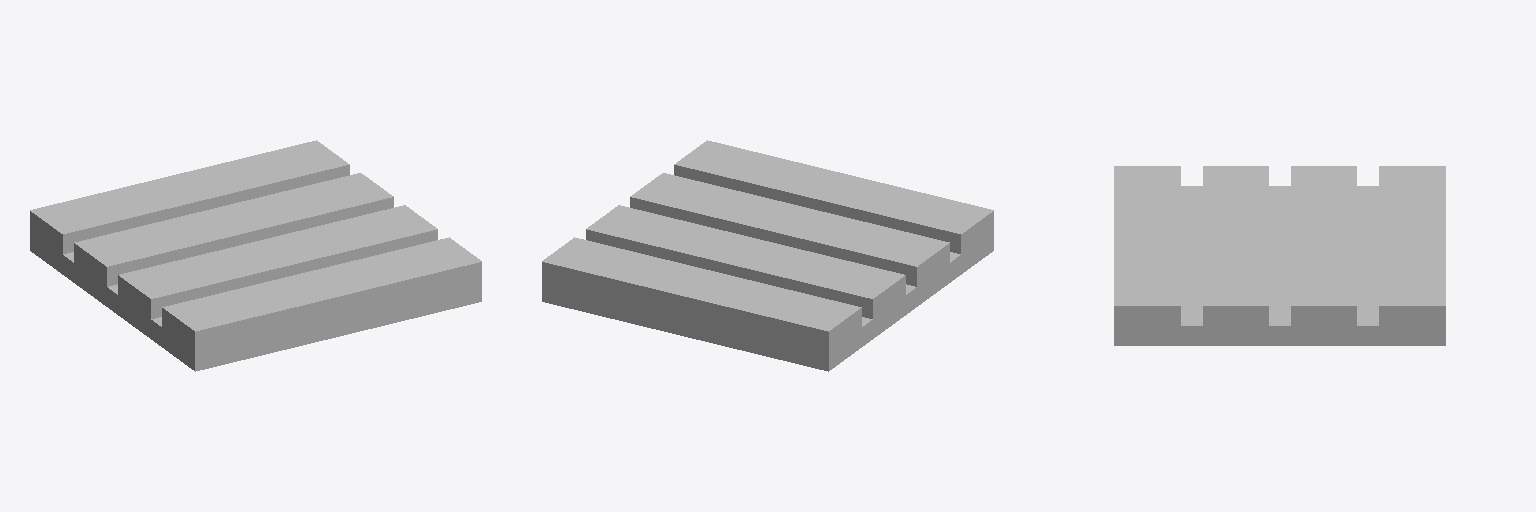
Rendered from Floor Test.obj.
3 renders of one model, left to right at view 1: azimuth 30°, elevation 25°; view 2: azimuth 150°, elevation 25°; view 3: azimuth 270°, elevation 25°, orthographic.
Parts seen in each view (by area): view 1: Cube_Cube.001; view 2: Cube_Cube.001; view 3: Cube_Cube.001.
Boxes of the visible parts, <box> form: Cube_Cube.001: <box>30,140,481,371</box>; Cube_Cube.001: <box>542,140,993,371</box>; Cube_Cube.001: <box>1114,166,1445,345</box>.
Size of the model in its own units: 1 by 0.1333 by 1.